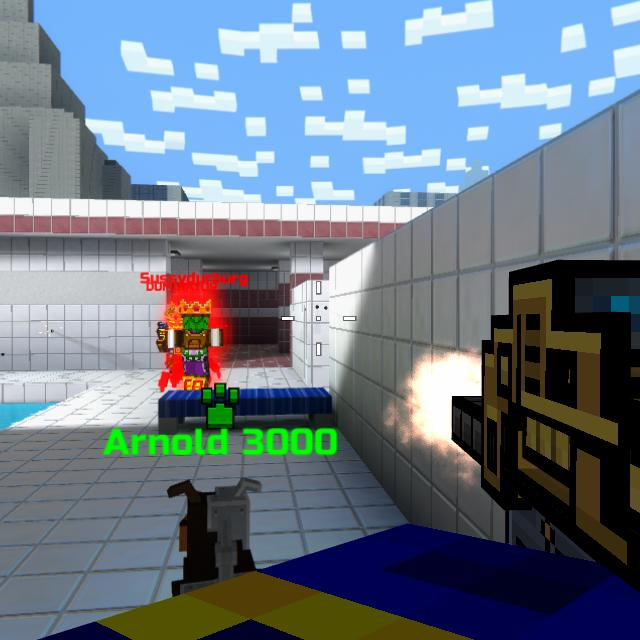Enemy: (159, 302, 225, 391)
